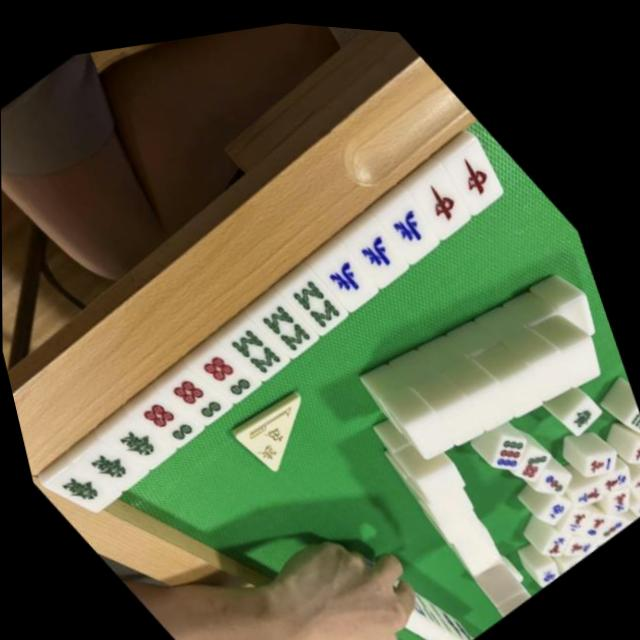hdg: (50, 456, 122, 534), (82, 436, 146, 506), (112, 413, 173, 478)
hdr: (413, 155, 486, 235), (451, 133, 517, 205)
hwn: (347, 209, 419, 287), (382, 184, 453, 260), (316, 237, 387, 312)
sb8: (225, 311, 298, 390), (286, 260, 357, 338), (257, 287, 327, 363)
sd6: (137, 381, 209, 460), (169, 360, 238, 434), (199, 338, 266, 411)
